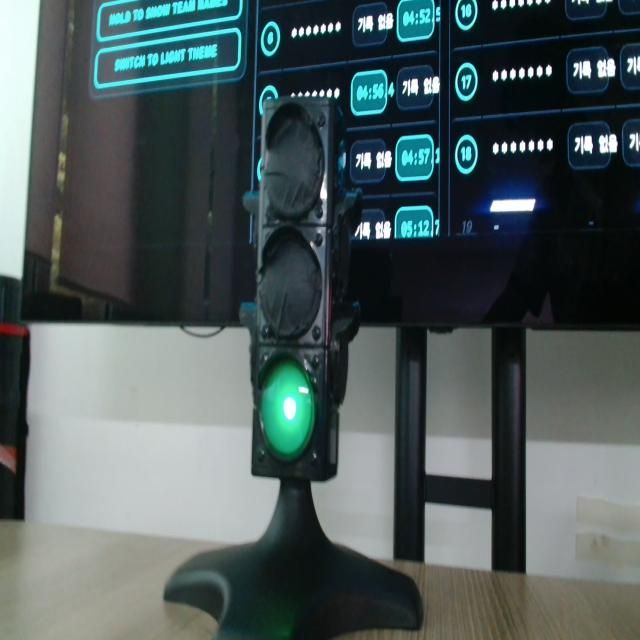green_light: (261, 360, 315, 459)
